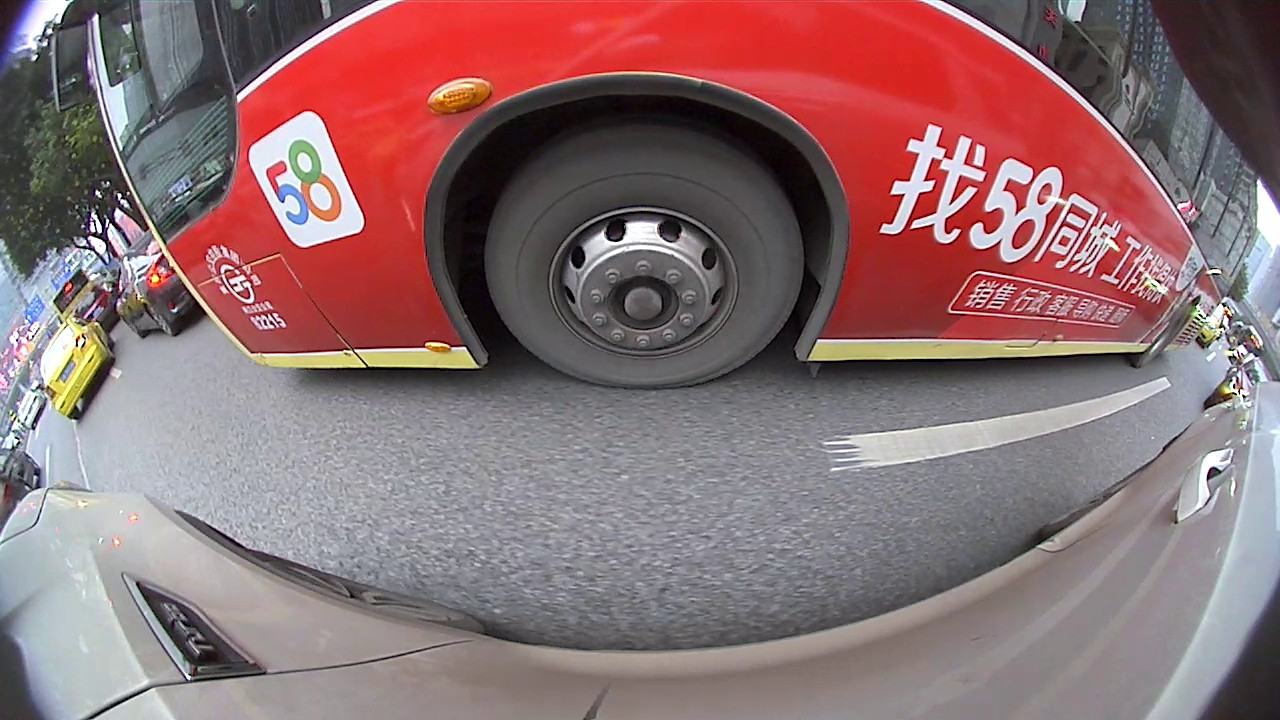bus: (41, 2, 1264, 394)
car: (115, 226, 202, 339), (34, 312, 115, 423)
front: (481, 120, 807, 391)
rear: (1107, 288, 1210, 372), (137, 304, 183, 338)
